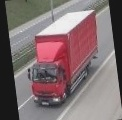truck: (24, 10, 106, 109)
